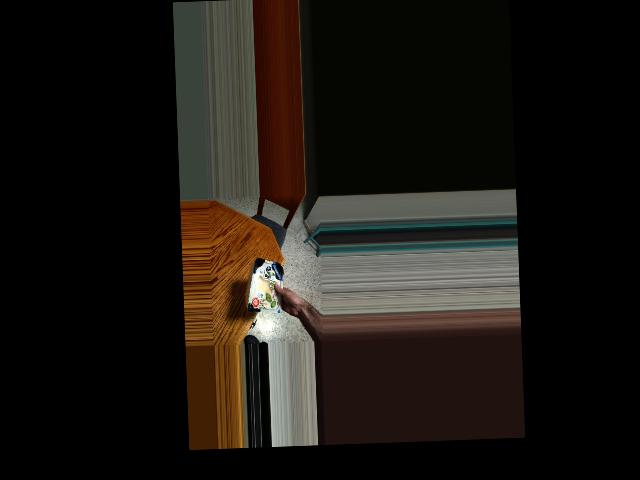cheese: (251, 255, 287, 317)
